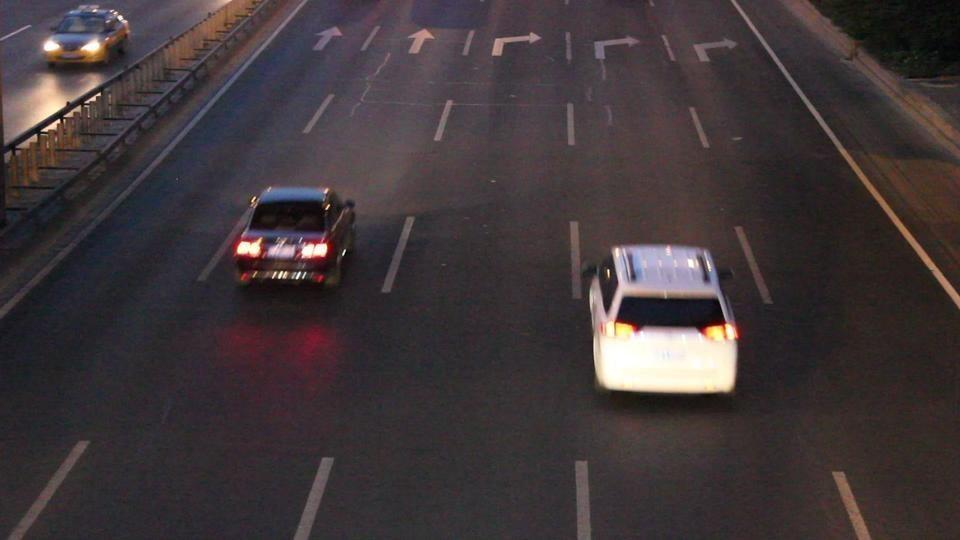car: (585, 243, 741, 396), (232, 186, 359, 291), (41, 9, 130, 66)
